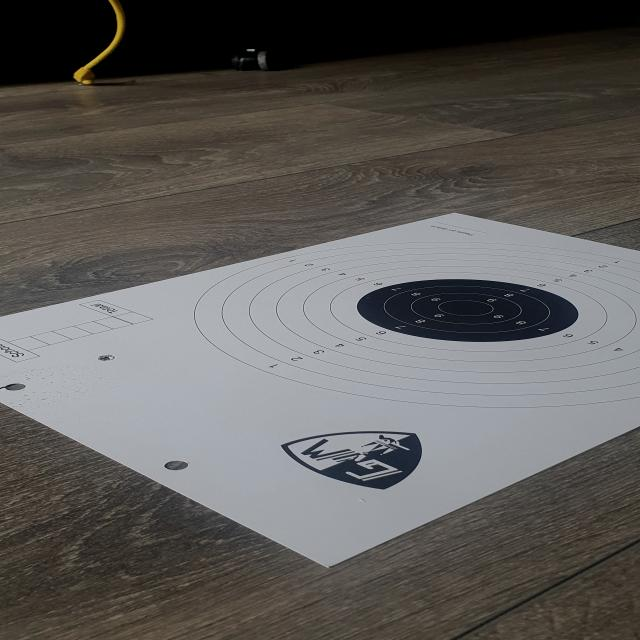0: (96, 354, 118, 362)
Target: (191, 241, 640, 408)
black_contour: (355, 280, 577, 342)
